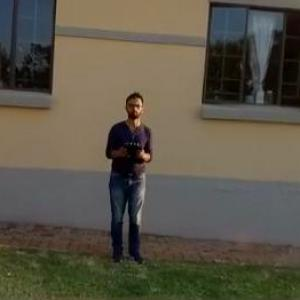follow: (98, 86, 156, 267)
